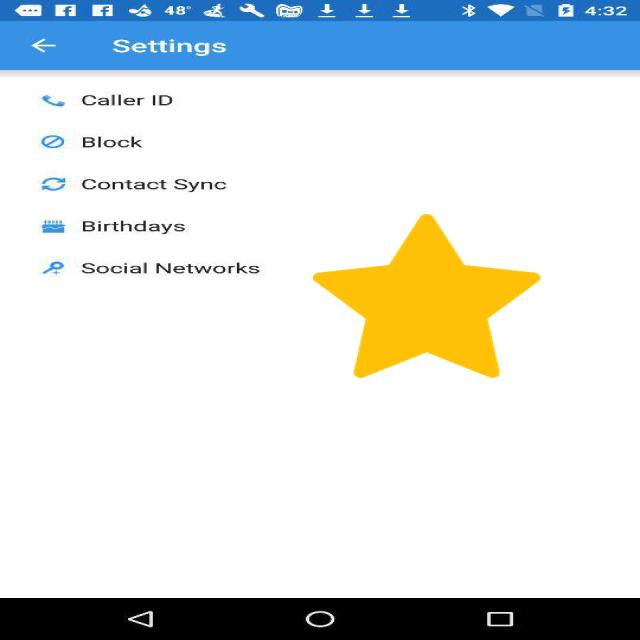forced continuity: (313, 214, 540, 378)
